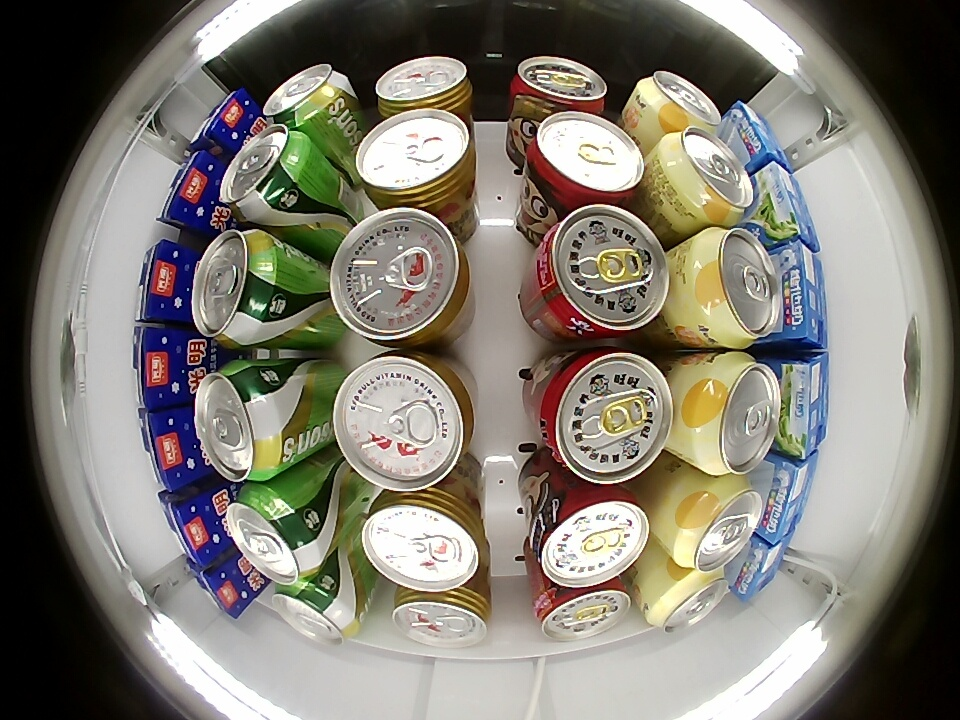bingqilinniunai: (133, 325, 202, 408), (138, 406, 205, 491), (157, 488, 228, 567), (157, 148, 223, 231), (136, 238, 196, 323), (186, 555, 258, 618), (190, 88, 259, 152)
hongniu2: (333, 350, 475, 490), (331, 207, 471, 348), (360, 487, 486, 592), (355, 110, 474, 211), (391, 584, 491, 648), (375, 56, 473, 119)
mangguoxiaolao: (679, 352, 782, 476), (682, 227, 782, 350), (652, 125, 753, 227), (670, 476, 762, 572), (645, 567, 730, 635), (636, 70, 721, 133)
quchenshixiangcao: (194, 359, 286, 482), (191, 228, 277, 344), (226, 483, 323, 585), (219, 124, 307, 222), (272, 582, 361, 647), (262, 64, 349, 130)
wangzainiunai: (535, 348, 674, 483), (531, 204, 670, 339), (529, 482, 650, 588), (525, 111, 644, 212), (533, 573, 633, 641), (510, 56, 608, 124)
weitanai: (751, 160, 821, 253), (772, 241, 828, 349), (754, 454, 818, 547), (774, 352, 828, 459), (726, 100, 793, 174), (730, 537, 789, 600)
